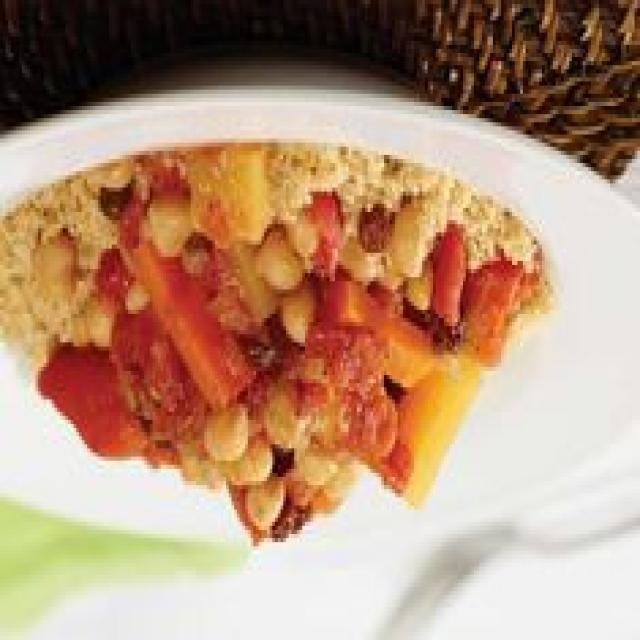Couscous: (0, 141, 559, 542)
